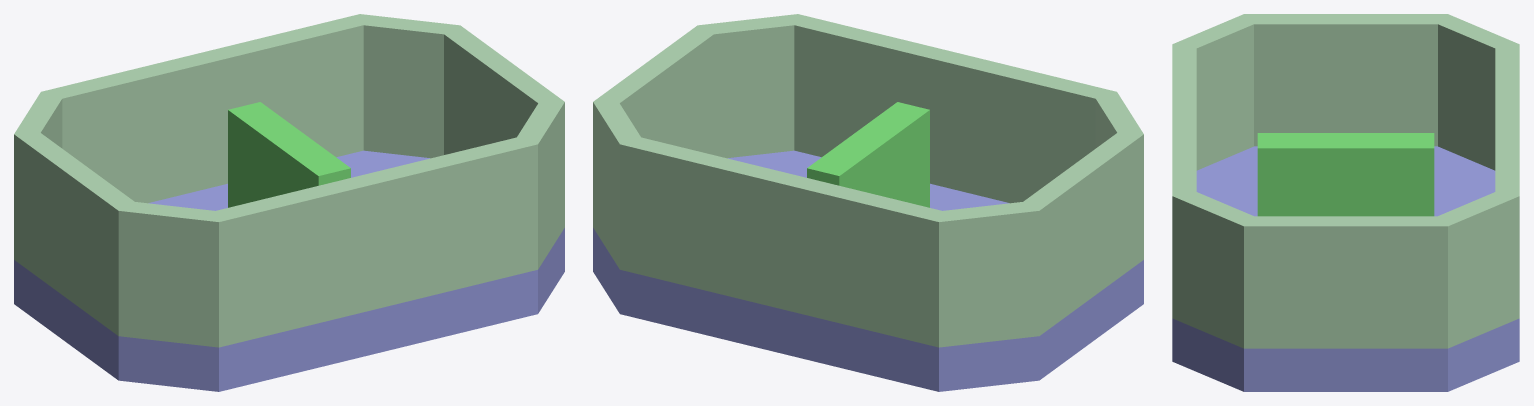
The model's file is map_will-Eb.fbx.
The picture shows the model from 3 angles, left to right: view 1: azimuth 30°, elevation 25°; view 2: azimuth 150°, elevation 25°; view 3: azimuth 270°, elevation 25°; orthographic projection. The views are drawn at different scales.
Visible parts, largest first — view 1: wall.015, wall.008, Eb.001, wall.016, wall.014, wall.009, wall.007, obsticle.003, wall.013, wall.012; view 2: wall.008, wall.015, Eb.001, wall.016, wall.012, wall.013, wall.007, obsticle.003, wall.009, wall.014; view 3: wall.007, wall.016, Eb.001, obsticle.003, wall.009, wall.013, wall.012, wall.014, wall.008, wall.015.
Part boxes in pixels (x1,y1,x2,y2): wall.015: (215,137,537,347); wall.008: (41,14,363,203); Eb.001: (14,150,564,391); wall.016: (14,133,134,335); wall.014: (118,202,218,347); wall.009: (360,14,459,158); wall.007: (444,25,564,154); obsticle.003: (228,102,350,207); wall.013: (517,102,564,269); wall.012: (14,92,62,148); wall.008: (620,137,942,347); wall.015: (794,14,1116,203); Eb.001: (593,150,1143,391); wall.016: (1023,133,1143,335); wall.012: (939,202,1039,347); wall.013: (698,14,797,158); wall.007: (593,25,713,154); obsticle.003: (807,102,929,207); wall.009: (593,102,640,269); wall.014: (1095,92,1143,148); wall.007: (1244,216,1447,348); wall.016: (1244,14,1447,146); Eb.001: (1172,146,1519,391); obsticle.003: (1257,133,1434,216); wall.009: (1438,192,1519,348); wall.013: (1172,192,1253,348); wall.012: (1438,14,1518,170); wall.014: (1173,14,1253,170); wall.008: (1495,44,1519,195); wall.015: (1172,44,1196,195).
Bounding box in the file's own units: 384 × 140 × 265.
